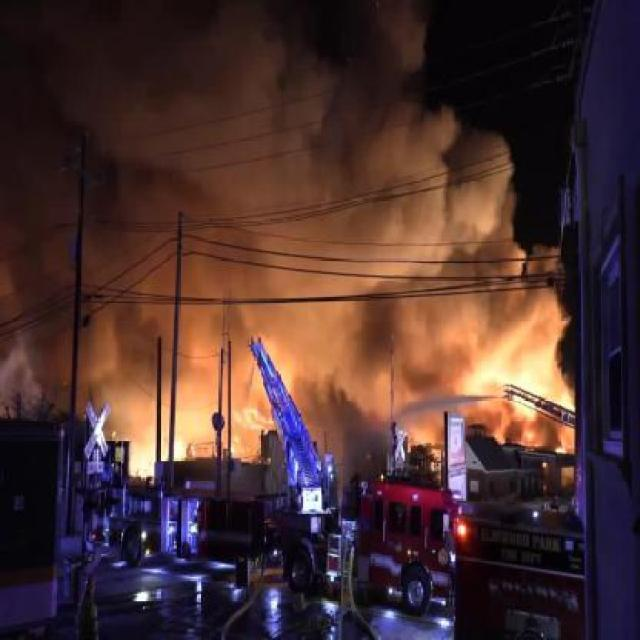Smoke: (144, 20, 347, 349), (0, 3, 146, 334), (344, 120, 493, 406), (364, 0, 418, 103)
